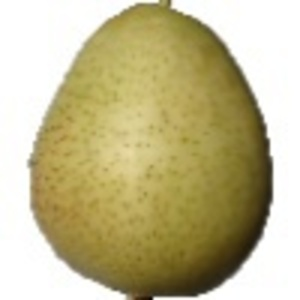pera: (28, 1, 274, 300)
